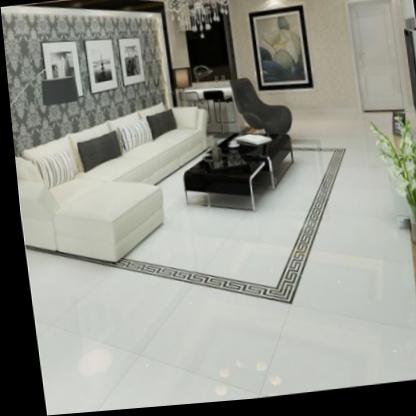Ceramic floor: (20, 131, 416, 416)
Door: (348, 3, 406, 119)
Sofa: (9, 103, 220, 272)
